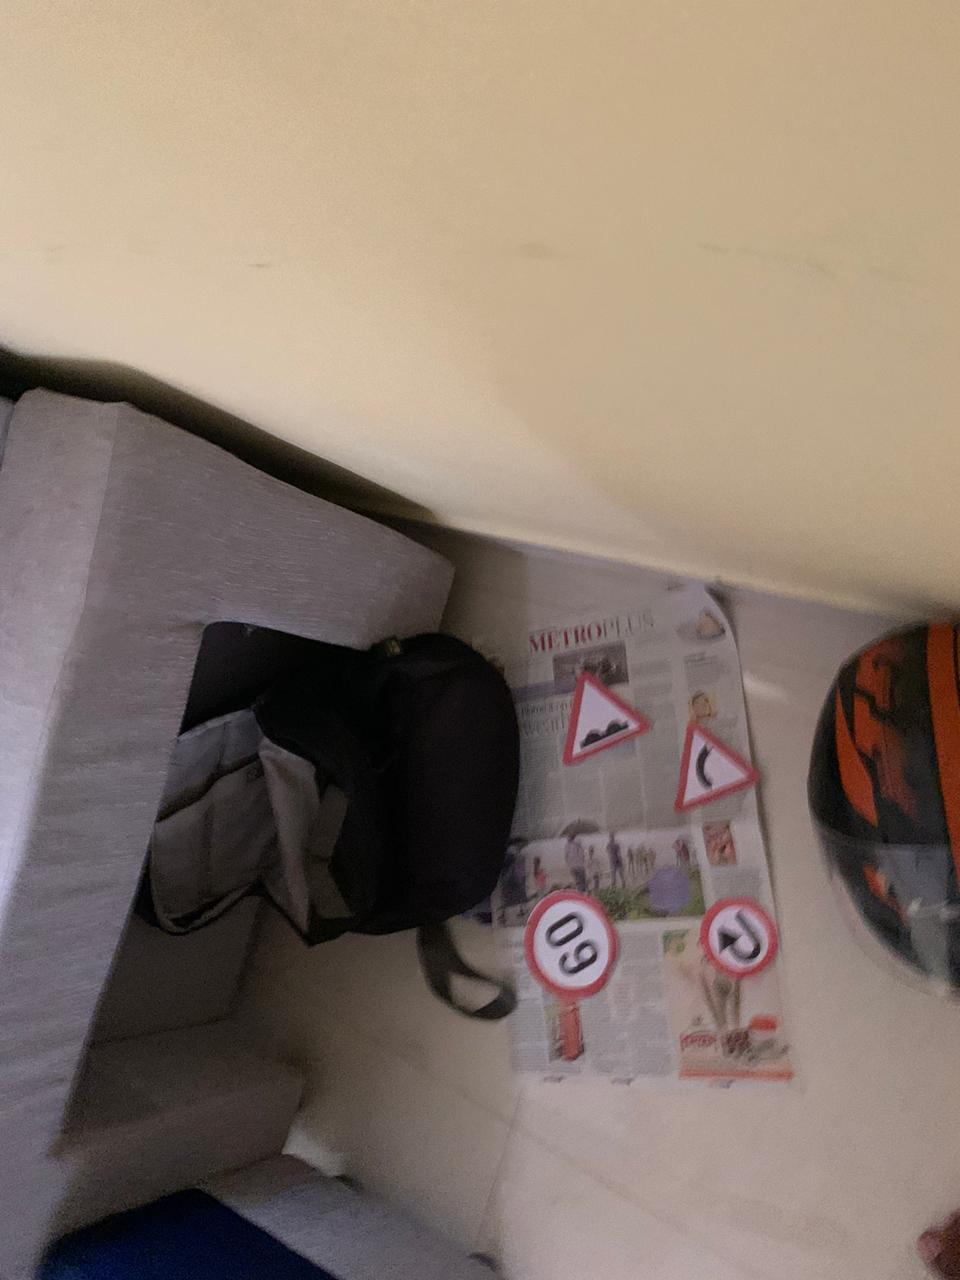LEFT CURVE: (664, 710, 768, 808)
SPEED LIMIT (60 KM/H): (517, 876, 624, 1004)
U-TURN: (686, 880, 795, 992)
UNEVEN ROAD: (557, 667, 663, 768)
